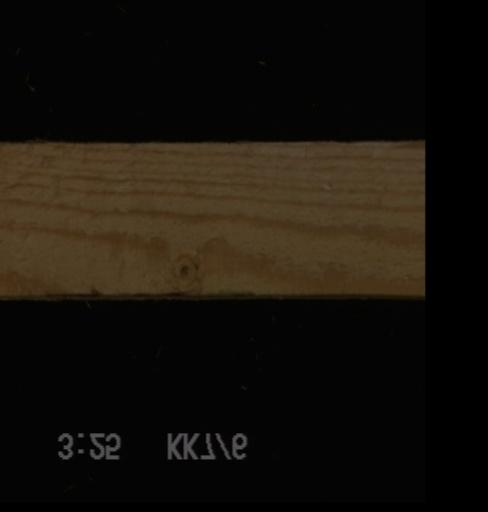small_knot: (165, 252, 202, 292)
